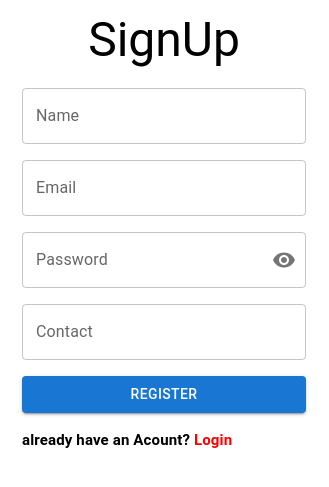
Test: Register Page unit Tests › Testing should show error for password validating At least 1 number
Type "Sriramrsg@" into the password field labelled "Password". click: {"x": 139, "y": 260}
box: [22,232,256,288]
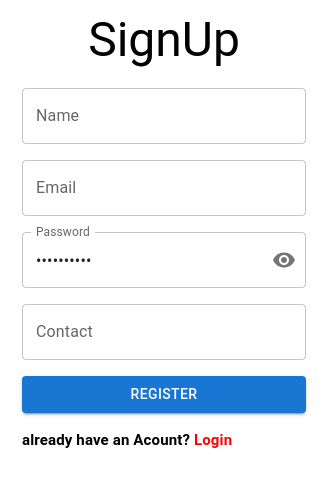
Leave the password field labelled "Password", box [22,232,256,288]
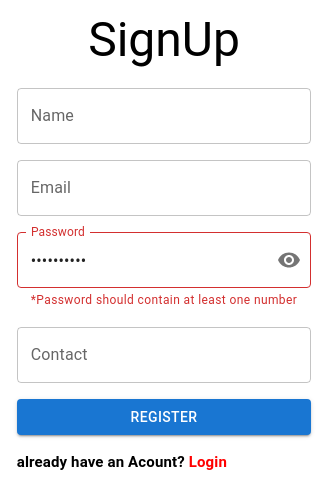
Now the text "*Password should contain at least one number" is shown, box [31,291,297,311]
